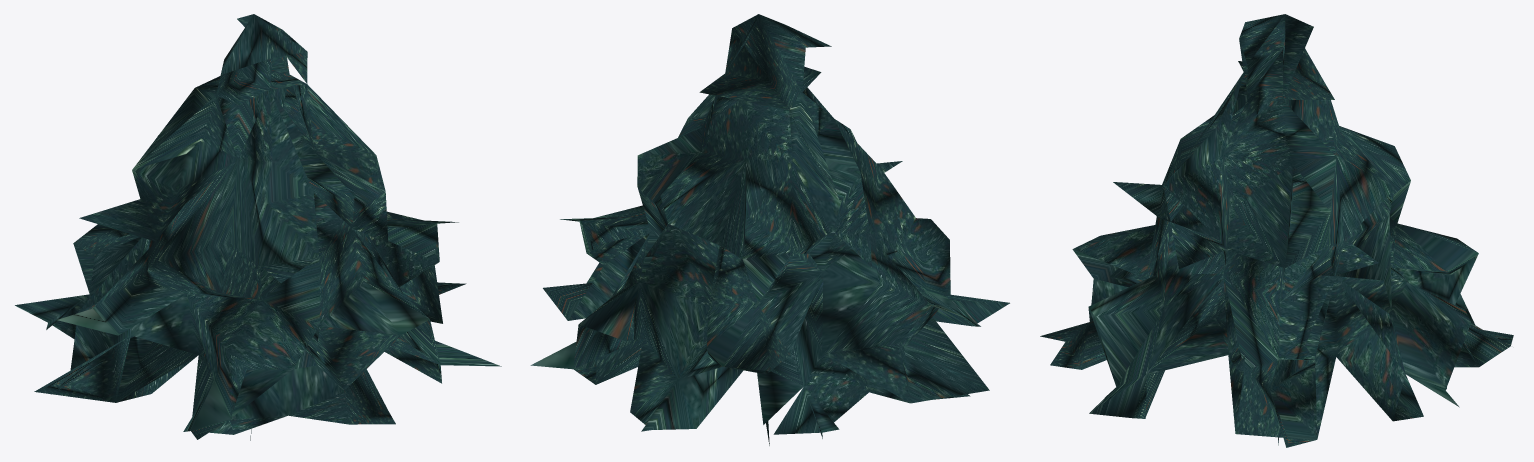
File: pine_b.glb
3 views of the same model, side by side, from view 1: azimuth 30°, elevation 25°; view 2: azimuth 150°, elevation 25°; view 3: azimuth 270°, elevation 25° (orthographic).
Size of the model in its own units: 1.65 by 1.55 by 1.54.
1 material, 1 textured.
